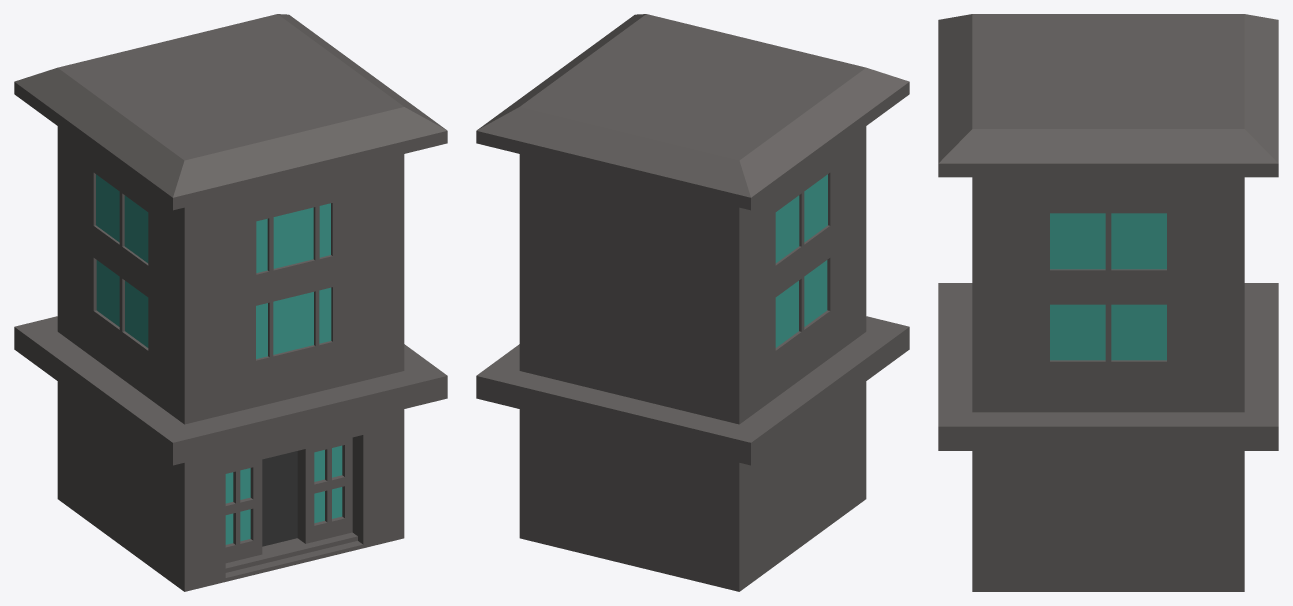
Rendered from NovosModelosTI2.fbx_Apartment.fbx.
The picture shows the model from 3 angles, left to right: view 1: azimuth 30°, elevation 25°; view 2: azimuth 150°, elevation 25°; view 3: azimuth 270°, elevation 25°; orthographic projection. The views are drawn at different scales.
Parts seen in each view (by area): view 1: Apartment; view 2: Apartment; view 3: Apartment.
Part boxes in pixels (x1,y1,x2,y2): Apartment: (14, 14, 447, 591); Apartment: (476, 14, 909, 591); Apartment: (938, 14, 1278, 591).
Size of the model in its own units: 600 by 900 by 600.
